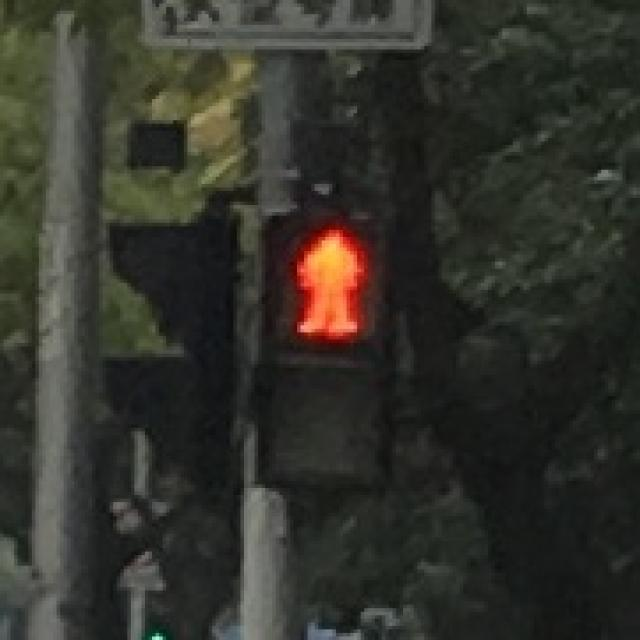red-crossing: (266, 216, 386, 350)
